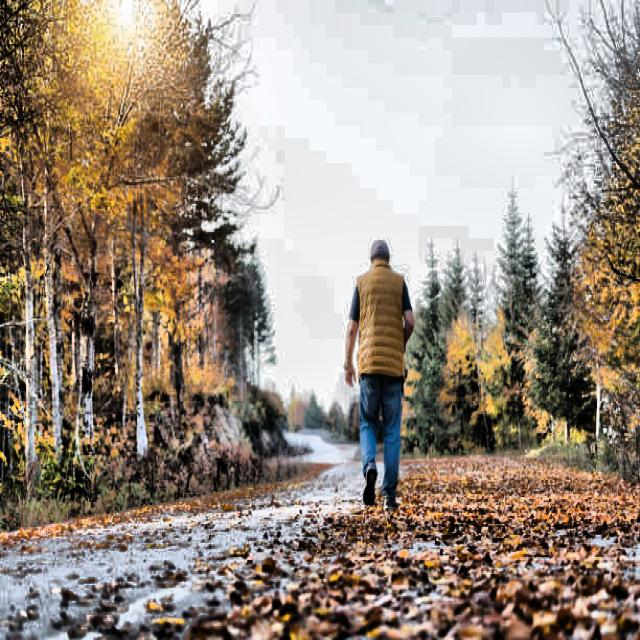Human: (344, 230, 430, 527)
